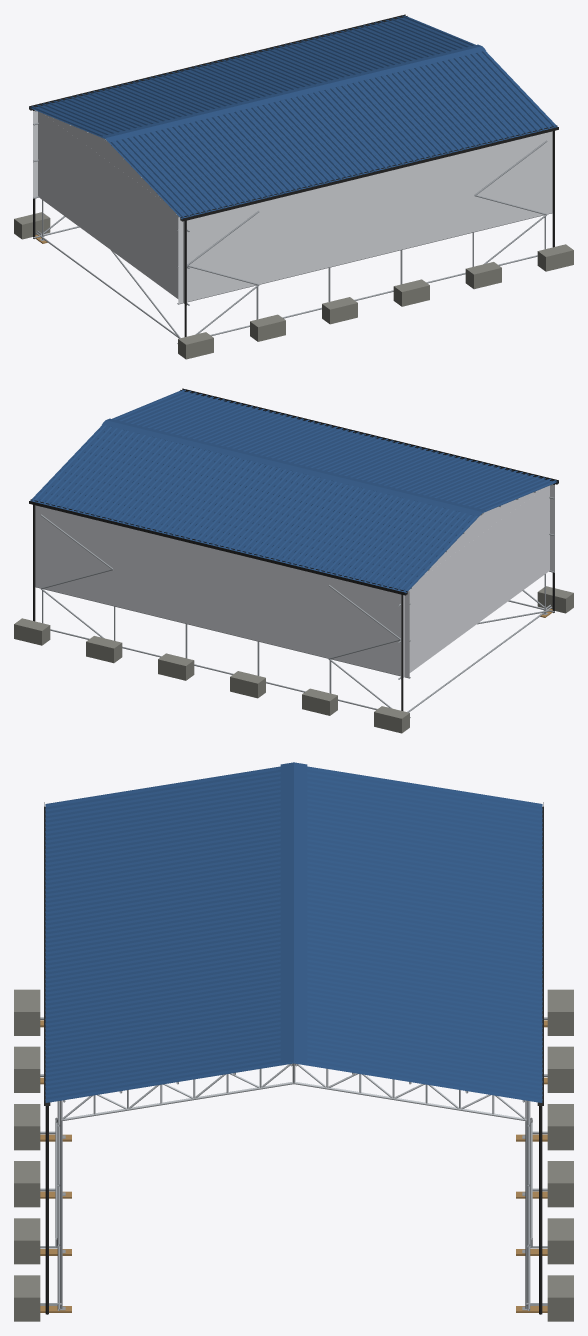
Rendered from rain-hoarding-12x8.glb.
3 renders of one model, top to bottom at view 1: azimuth 30°, elevation 25°; view 2: azimuth 150°, elevation 25°; view 3: azimuth 270°, elevation 25°, orthographic. The views are drawn at different scales.
Visible parts, largest first — view 1: roof_sheet_a, side_sheeting_0, kentledge_0_0, gutter_0, standard_0_0; view 2: roof_sheet_a, side_sheeting_0, kentledge_0_0, gutter_0, standard_0_0; view 3: roof_sheet_a, kentledge_0_0, standard_0_0, lattice_beam_0_a, gutter_0, sole_board_0_0.
Part boxes in pixels (x1,y1,x2,y2): roof_sheet_a: [29, 15, 557, 219]; side_sheeting_0: [33, 111, 552, 305]; kentledge_0_0: [14, 212, 573, 359]; gutter_0: [29, 14, 558, 336]; standard_0_0: [33, 110, 552, 343]; roof_sheet_a: [30, 389, 558, 593]; side_sheeting_0: [35, 485, 554, 679]; kentledge_0_0: [14, 586, 573, 733]; gutter_0: [29, 388, 558, 710]; standard_0_0: [35, 484, 554, 717]; roof_sheet_a: [45, 762, 542, 1102]; kentledge_0_0: [14, 989, 573, 1321]; standard_0_0: [40, 1017, 547, 1310]; lattice_beam_0_a: [60, 1064, 527, 1121]; gutter_0: [44, 802, 543, 1314]; sole_board_0_0: [40, 1020, 547, 1312].
Size of the model in its own units: 13.8 by 5.34 by 10.6.
